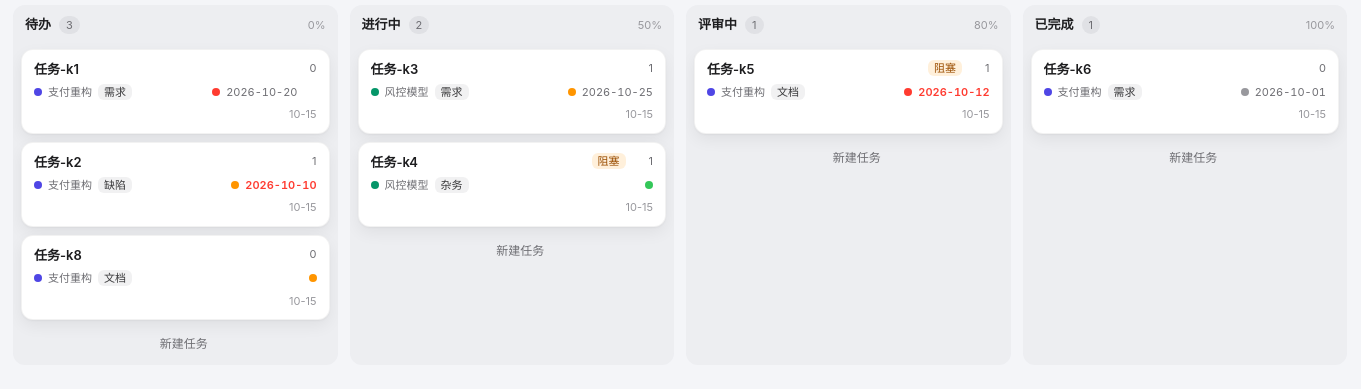
Test: 列内新建任务入口 › 失焦收起（不留下半截草稿）
Click the button with test id "board-add-task-todo". click: (175, 343)
box: [21,328,330,357]
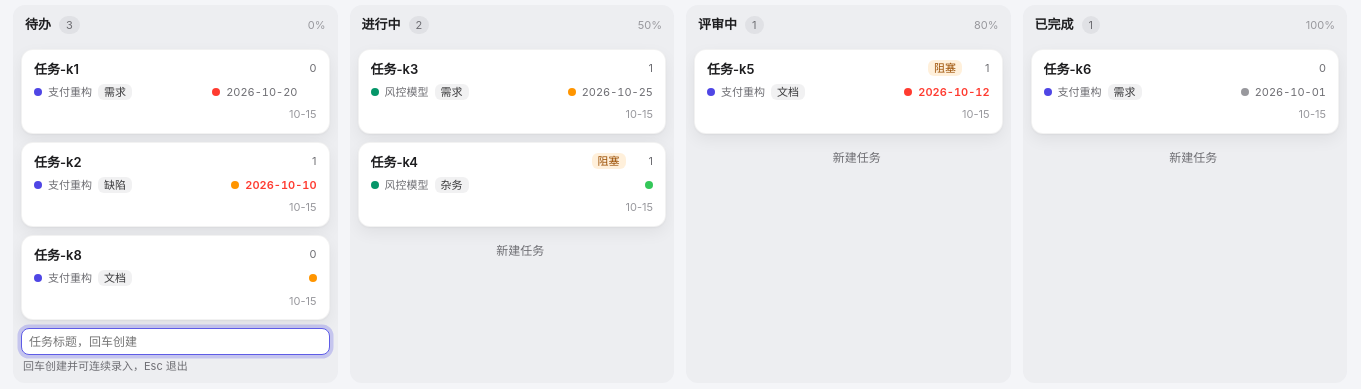
Type "走神了" into the field with test id "board-new-task-input-todo". click: (175, 342)
box: [21,328,330,355]
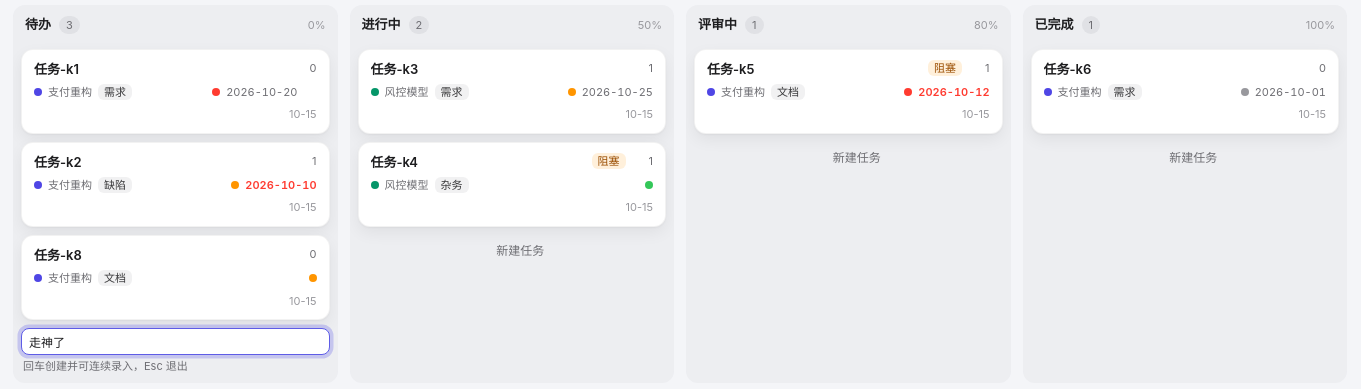
Leave the field with test id "board-new-task-input-todo", box [21,328,330,355]
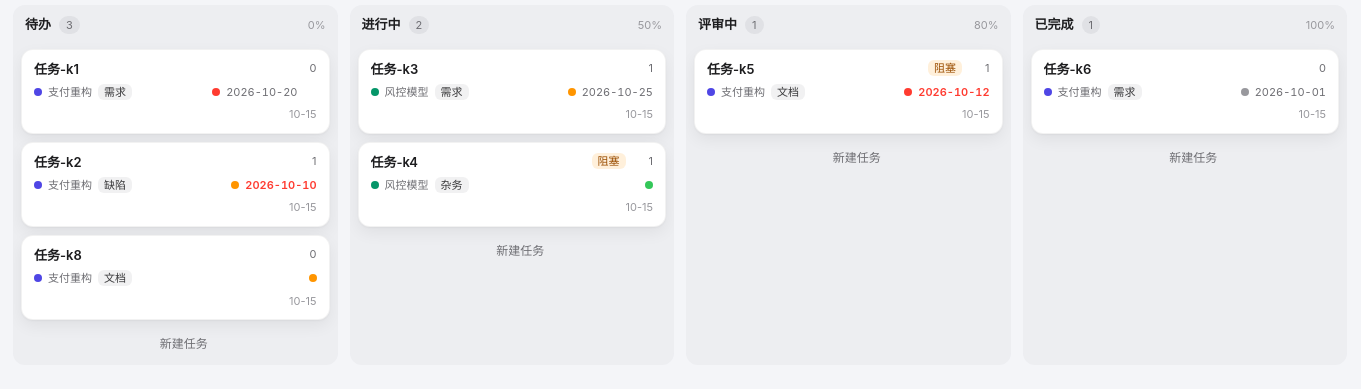
Now the field with test id "board-new-task-input-todo" is gone
